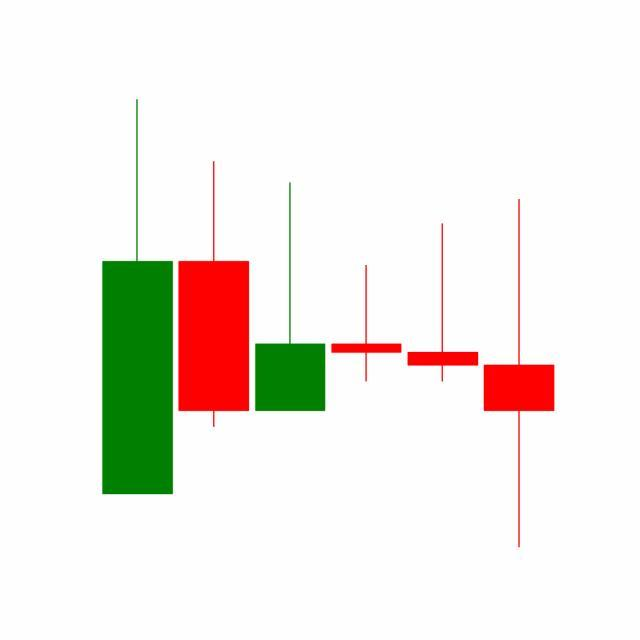Gravestone Doji: (404, 222, 482, 384)
